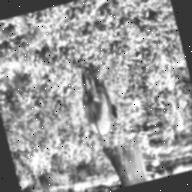boar: (73, 63, 121, 140)
